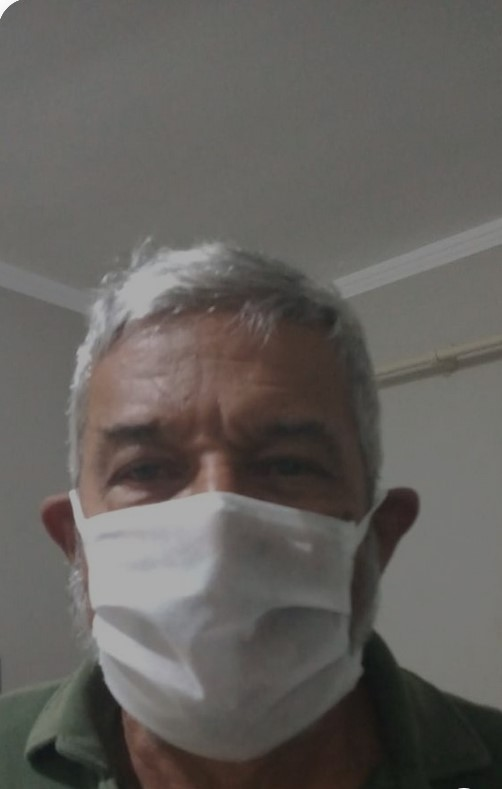face_with_mask: (42, 248, 423, 766)
